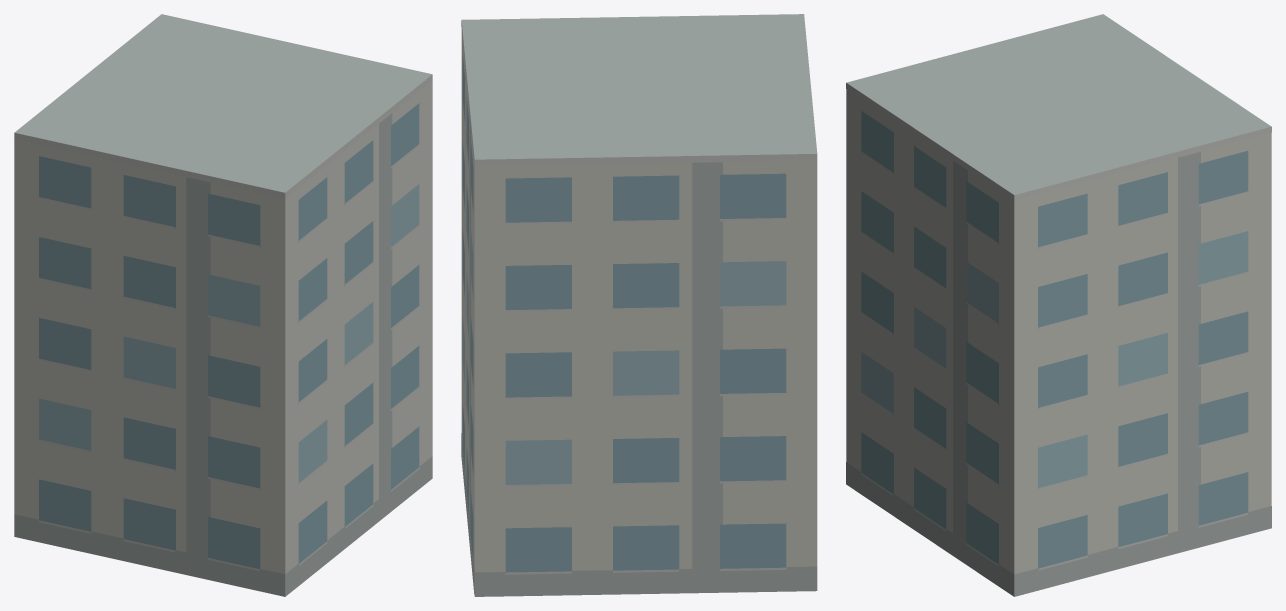
File: residential-bd8c6f91-b3fd-4a71-b957-b794884e2a72.glb
3 renders of one model, left to right at view 1: azimuth 30°, elevation 25°; view 2: azimuth 150°, elevation 25°; view 3: azimuth 270°, elevation 25°, orthographic. The views are drawn at different scales.
Visible parts, largest first — view 1: residential-bd8c6f91-b3fd-4a71-b957-b794884e2a72.tmp; view 2: residential-bd8c6f91-b3fd-4a71-b957-b794884e2a72.tmp; view 3: residential-bd8c6f91-b3fd-4a71-b957-b794884e2a72.tmp.
Part boxes in pixels (<box>): residential-bd8c6f91-b3fd-4a71-b957-b794884e2a72.tmp: <box>14,14,432,596</box>; residential-bd8c6f91-b3fd-4a71-b957-b794884e2a72.tmp: <box>461,14,817,596</box>; residential-bd8c6f91-b3fd-4a71-b957-b794884e2a72.tmp: <box>846,14,1271,596</box>.
Size of the model in its own units: 15.2 by 15.7 by 15.08.
